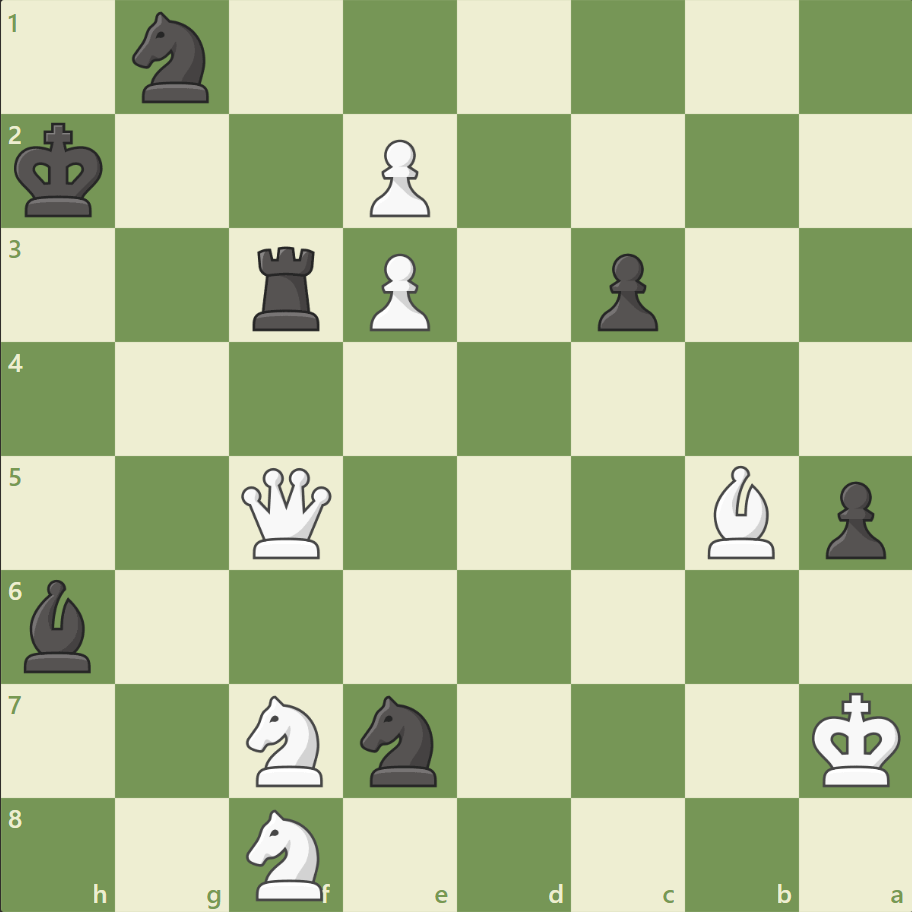B: (698, 460, 782, 563)
K: (806, 685, 906, 793)
N: (238, 688, 335, 791), (238, 802, 335, 904)
P: (361, 246, 435, 337), (361, 132, 435, 223)
Q: (237, 463, 336, 562)
b: (17, 574, 101, 676)
k: (11, 117, 111, 225)
n: (351, 688, 449, 791), (124, 7, 222, 110)
p: (815, 473, 889, 564), (588, 246, 662, 337)
r: (246, 239, 329, 336)
